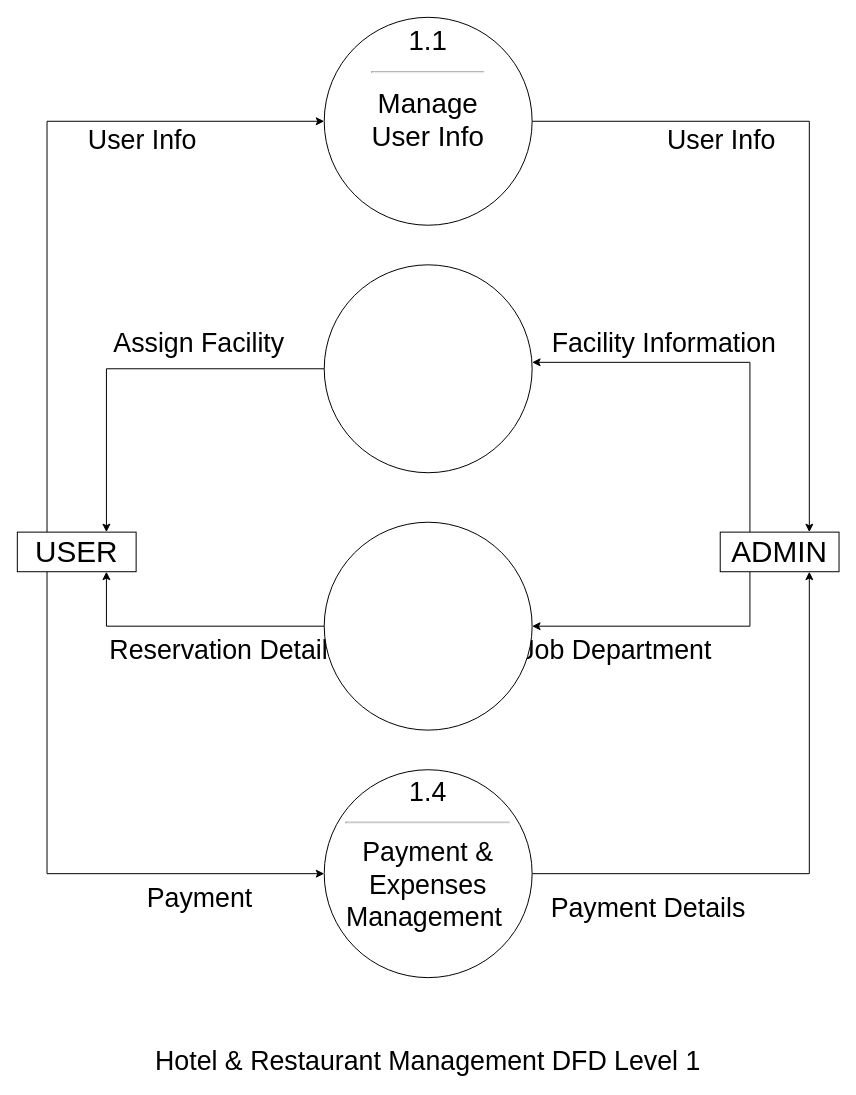
Some shapes in this 856 by 1095 pixel diagram are drawn without their labels. The shapes that lost their labels are listed below. From the top down, each one's centre as x and y in pixels, then its label:
[427,368]: 1.2 Assign Room / Table
[427,625]: 1.3 Manage Reservation
